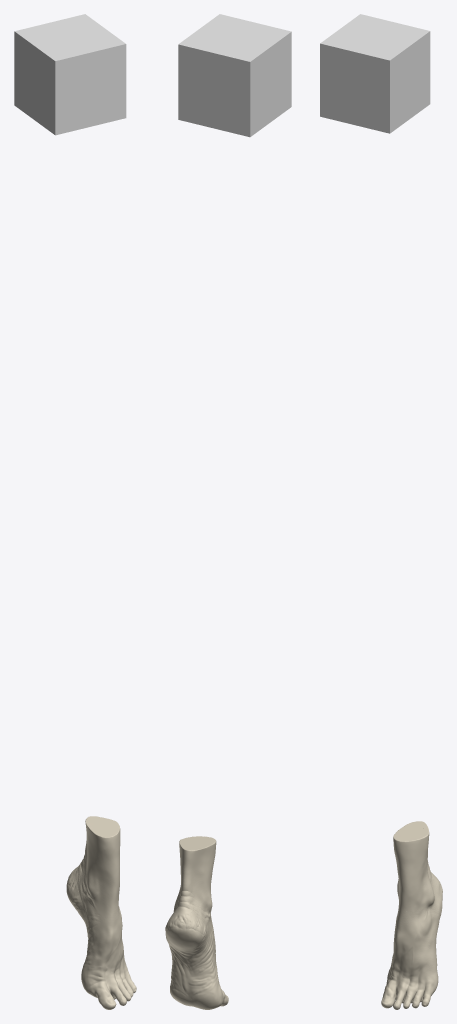
File: human_body_slim.glb
The picture shows the model from 3 angles, left to right: view 1: azimuth 30°, elevation 25°; view 2: azimuth 150°, elevation 25°; view 3: azimuth 330°, elevation 25°; orthographic projection. The views are drawn at different scales.
Parts seen in each view (by area): view 1: Cube, Object_2, Object_3; view 2: Cube, Object_2, Object_3; view 3: Cube, Object_2, Object_3.
Part boxes in pixels (<box>): Cube: <box>14,14,126,135</box>; Object_2: <box>66,819,136,1009</box>; Object_3: <box>66,816,135,1009</box>; Cube: <box>178,14,291,137</box>; Object_2: <box>165,837,228,1009</box>; Object_3: <box>165,836,227,1009</box>; Cube: <box>320,14,430,133</box>; Object_2: <box>381,823,442,1009</box>; Object_3: <box>381,821,442,1009</box>.
Size of the model in its own units: 2.69 by 26.1 by 2.29.
